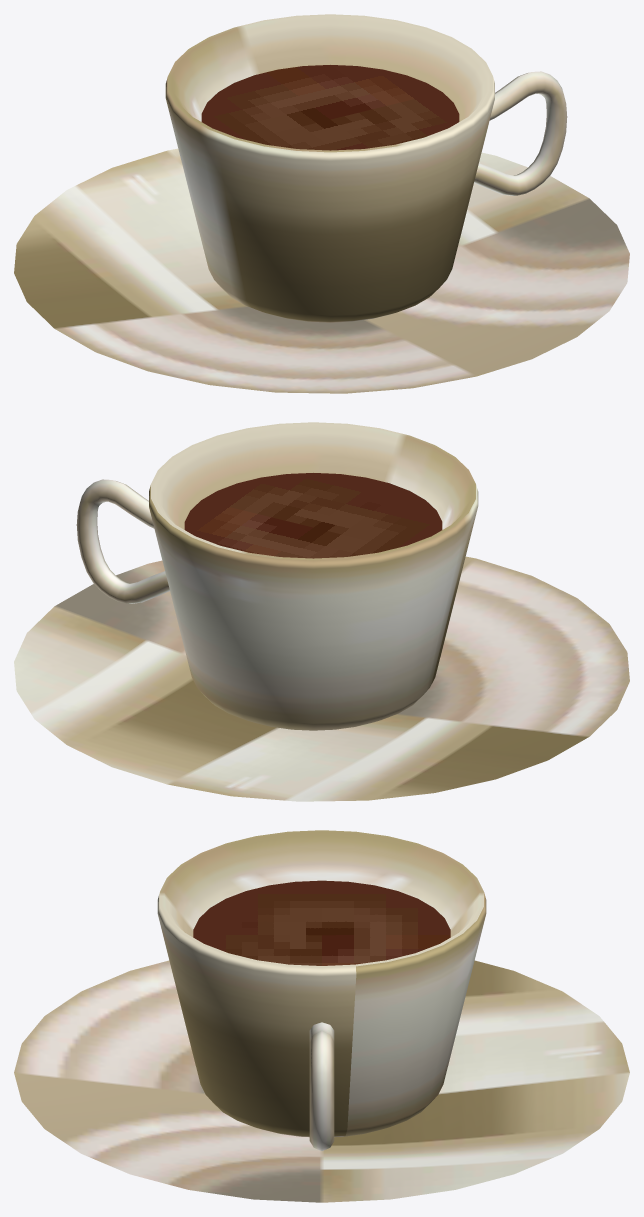
File: int_oth_coffeecup.dae
The picture shows the model from 3 angles, top to bottom: view 1: azimuth 30°, elevation 25°; view 2: azimuth 150°, elevation 25°; view 3: azimuth 270°, elevation 25°; orthographic projection.
Visible parts, largest first — view 1: int_oth_coffeecup; view 2: int_oth_coffeecup; view 3: int_oth_coffeecup.
Boxes of the visible parts, box(x1,y1,x2,y2) form: int_oth_coffeecup: box(14, 14, 629, 393); int_oth_coffeecup: box(14, 422, 629, 801); int_oth_coffeecup: box(14, 830, 629, 1202).
Bounding box in the file's own units: 11.55 × 4.38 × 11.55.
Materials: 2 (2 with a texture image).
